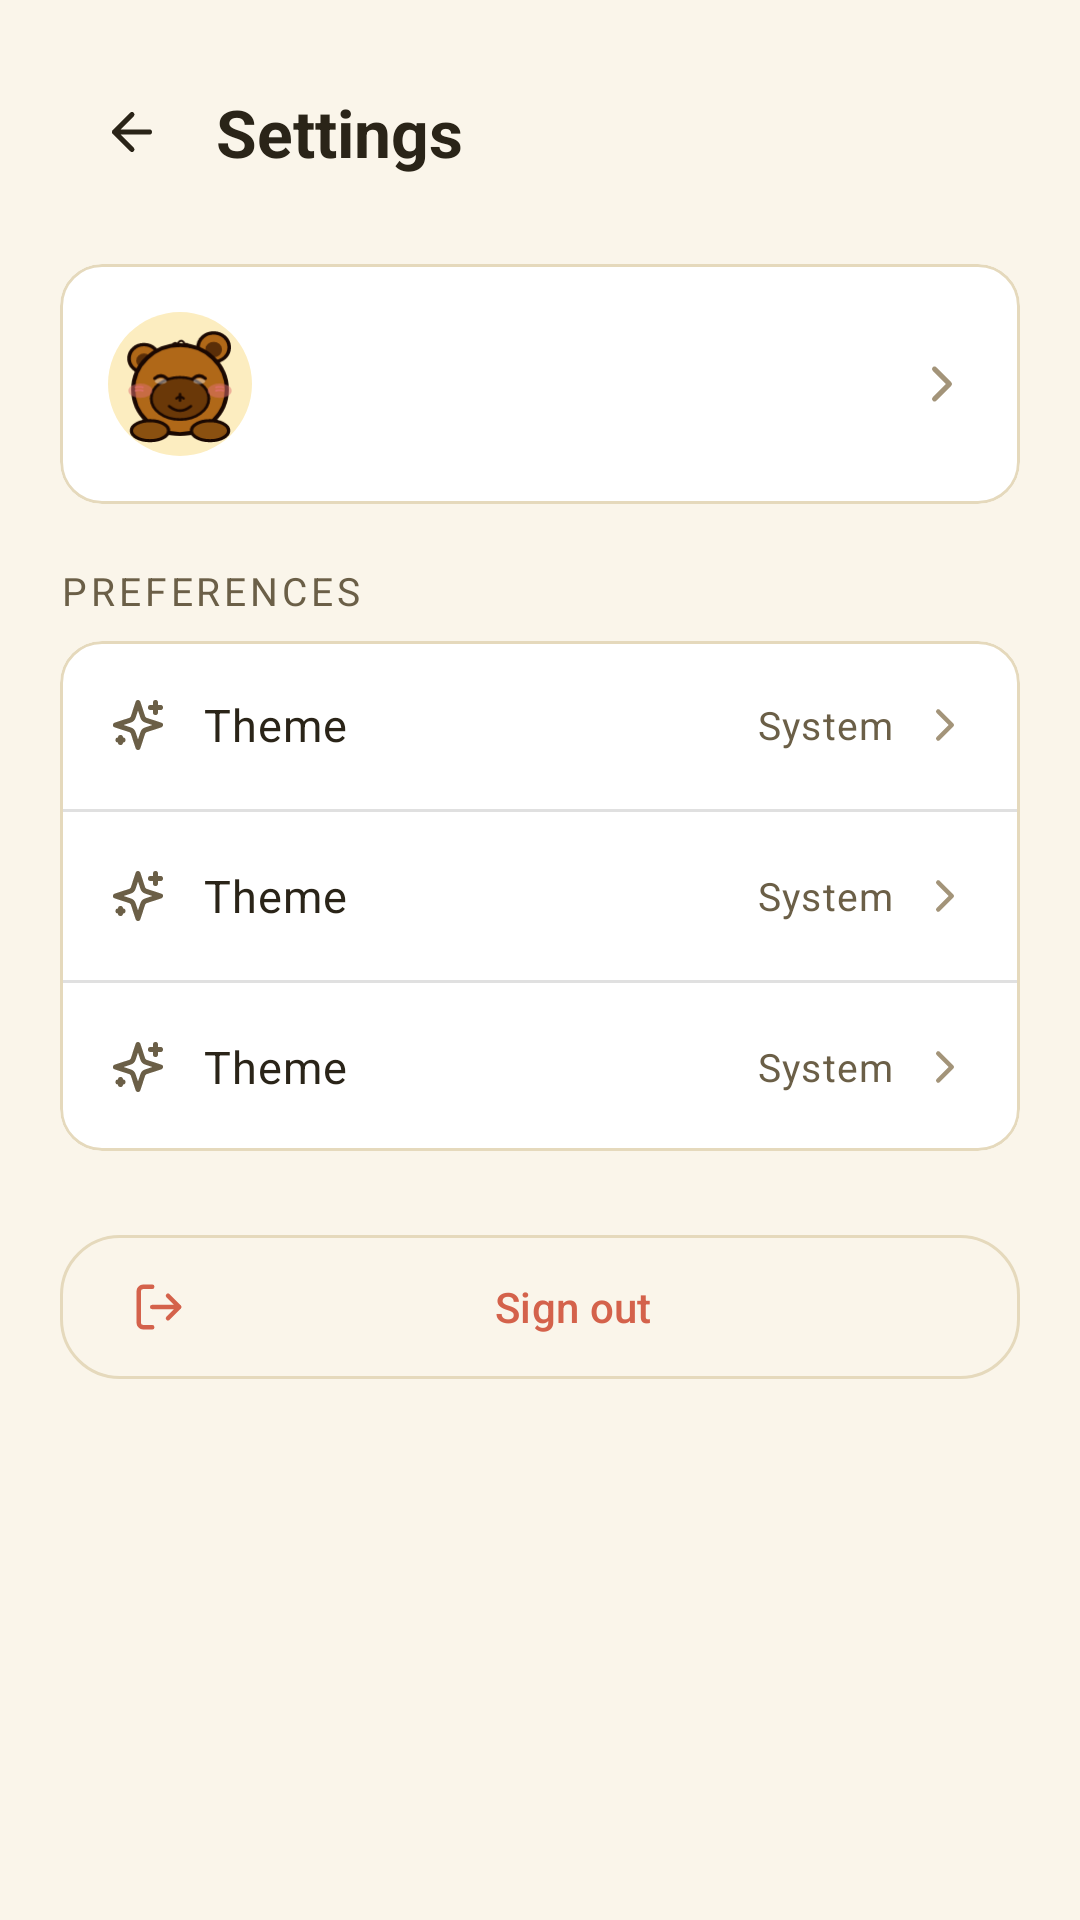

Where icons sit on this 1080x1920 app screen, as rect(x1, y1, x2, y2):
back: rect(112, 112, 152, 152)
chevron right: rect(932, 366, 952, 402), rect(936, 709, 954, 741), rect(936, 880, 954, 912), rect(936, 1051, 954, 1083)
Profile avatar: rect(108, 312, 252, 456)
sparkles: rect(113, 700, 163, 750), rect(113, 871, 163, 921), rect(113, 1042, 163, 1092)
